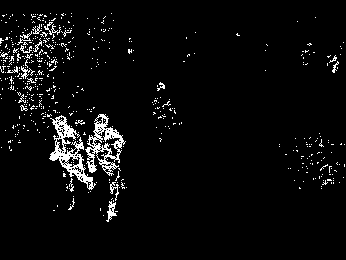person: (90, 113, 134, 223), (44, 114, 88, 216)
